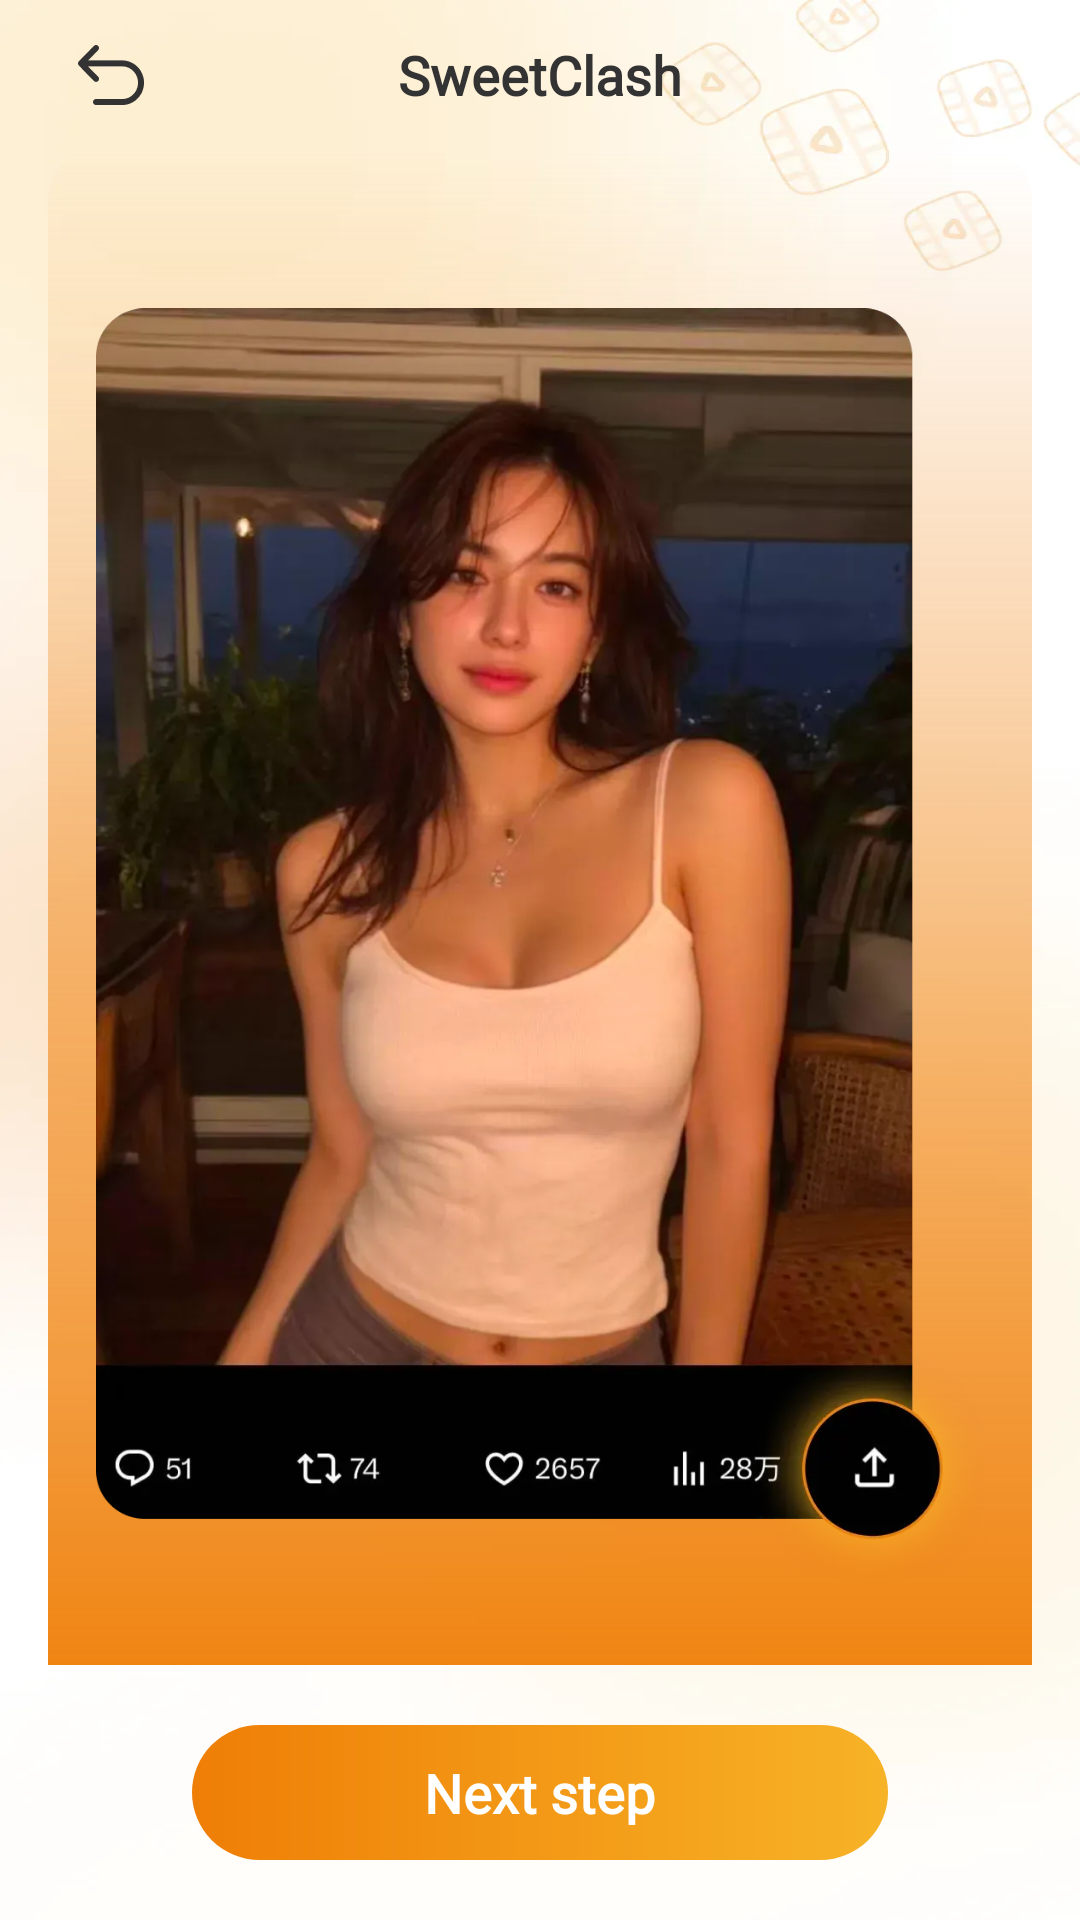

Point at icon controls on the screen. Image size 1080*1920, points as point (x, y).
page back: point (111, 75)
